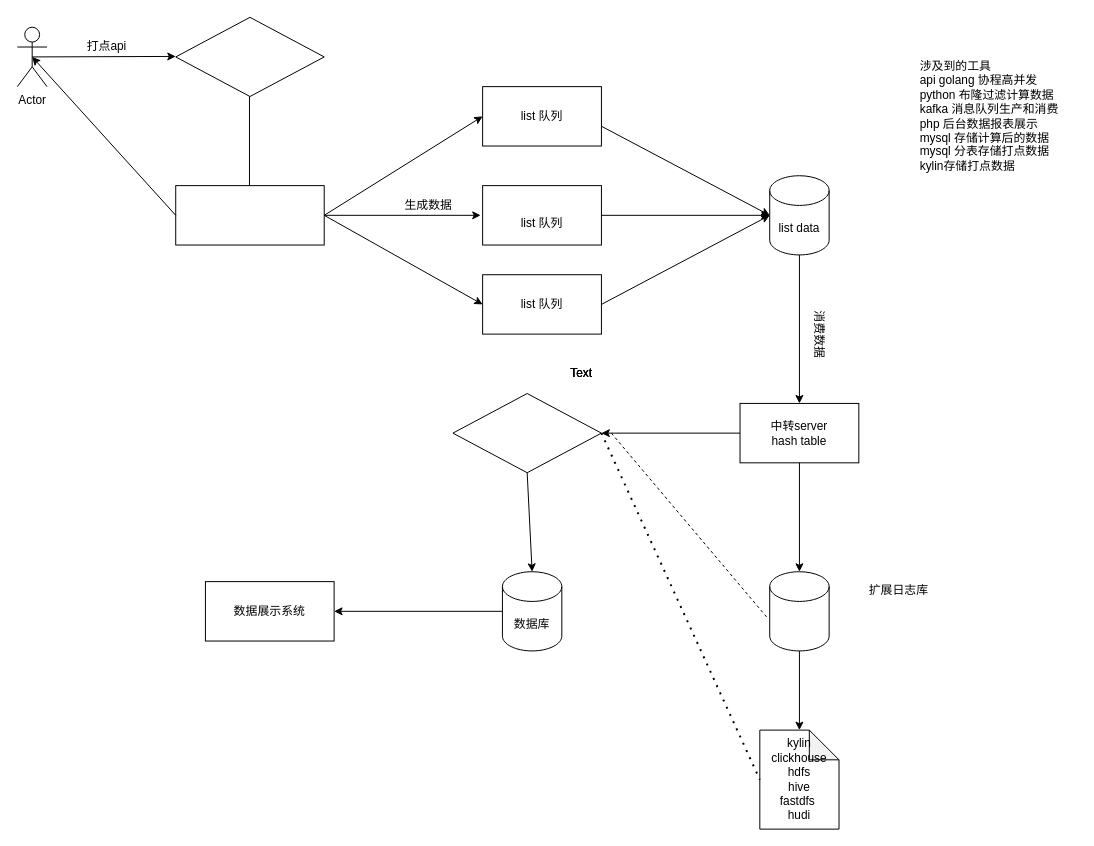
The diagram is 1094 pixels wide and 846 high, and some of its shapes have lost their labels. The centre of each missing label's shape, as x and y in pixels:
协程并发 中转处理: the point at 249,215
数据计算: the point at 526,433
日志库mysql分表: the point at 799,611
是否鉴权通过: the point at 249,56
